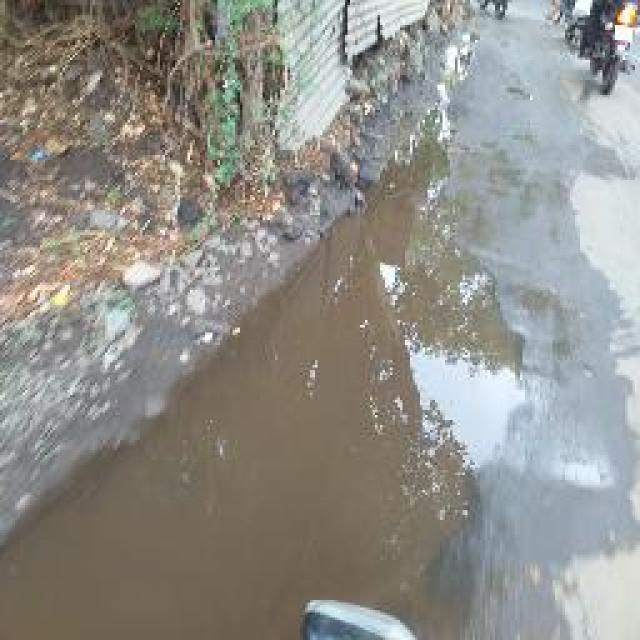stagnation: (300, 266, 640, 472)
